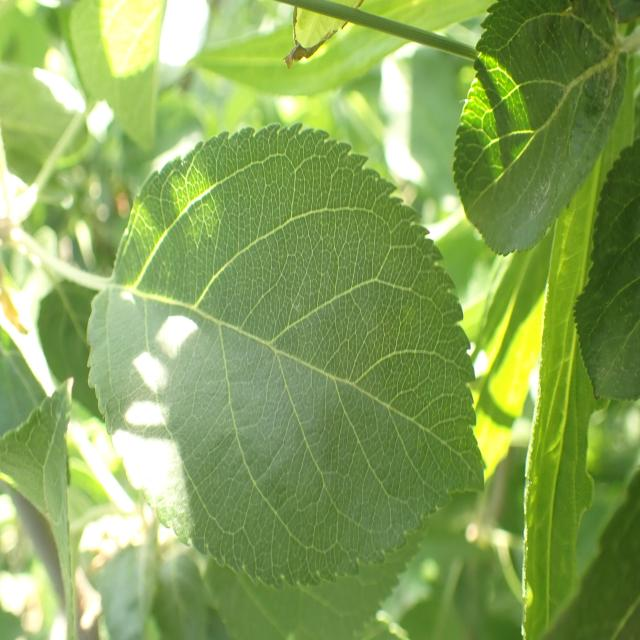healthy: (87, 120, 485, 590), (452, 1, 626, 256), (571, 134, 640, 406)
